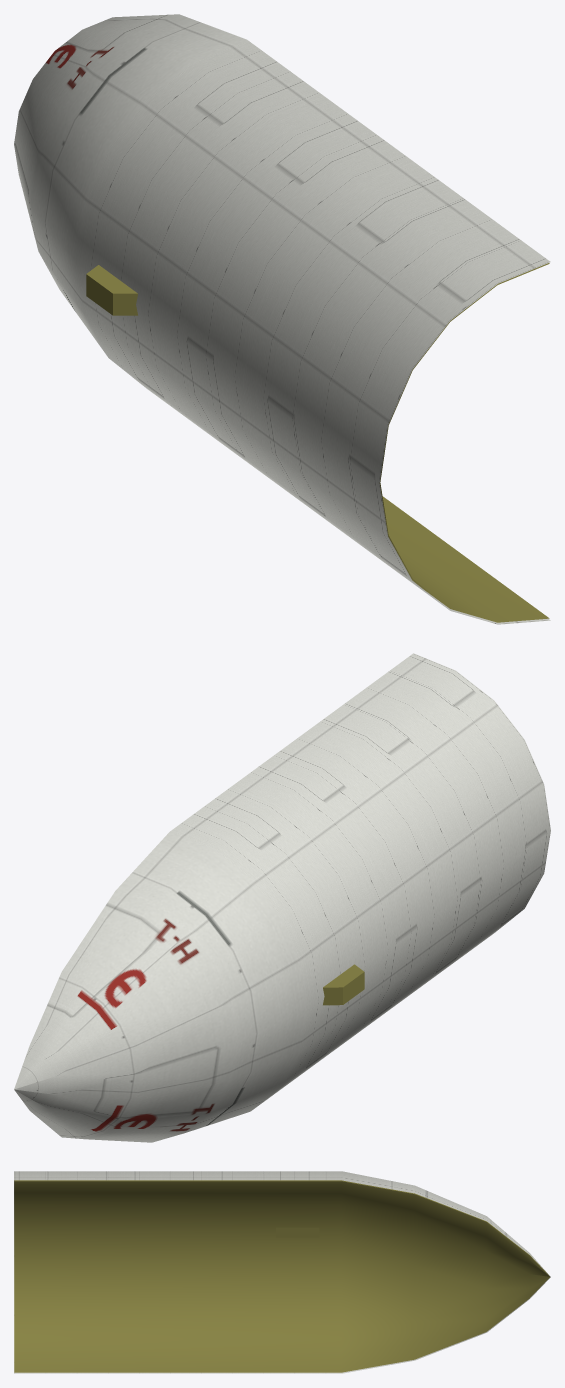
Rendered from energiamfair_2.obj.
3 renders of one model, top to bottom at view 1: azimuth 30°, elevation 25°; view 2: azimuth 150°, elevation 25°; view 3: azimuth 270°, elevation 25°, orthographic. The views are drawn at different scales.
Parts seen in each view (by area): view 1: group0, group2, group1; view 2: group0, group1; view 3: group2, group0, group1.
Part boxes in pixels (left/top/right/bottom): group0: left=14, top=14, right=550, bottom=624; group2: left=379, top=263, right=549, bottom=622; group1: left=86, top=265, right=137, bottom=315; group0: left=14, top=653, right=550, bottom=1142; group1: left=323, top=964, right=364, bottom=1005; group2: left=14, top=1180, right=549, bottom=1372; group0: left=14, top=1171, right=550, bottom=1373; group1: left=276, top=1227, right=319, bottom=1237.
Bounding box in the file's own units: 3.86 × 7.01 × 17.65.
Materials: 2 (1 with a texture image).
